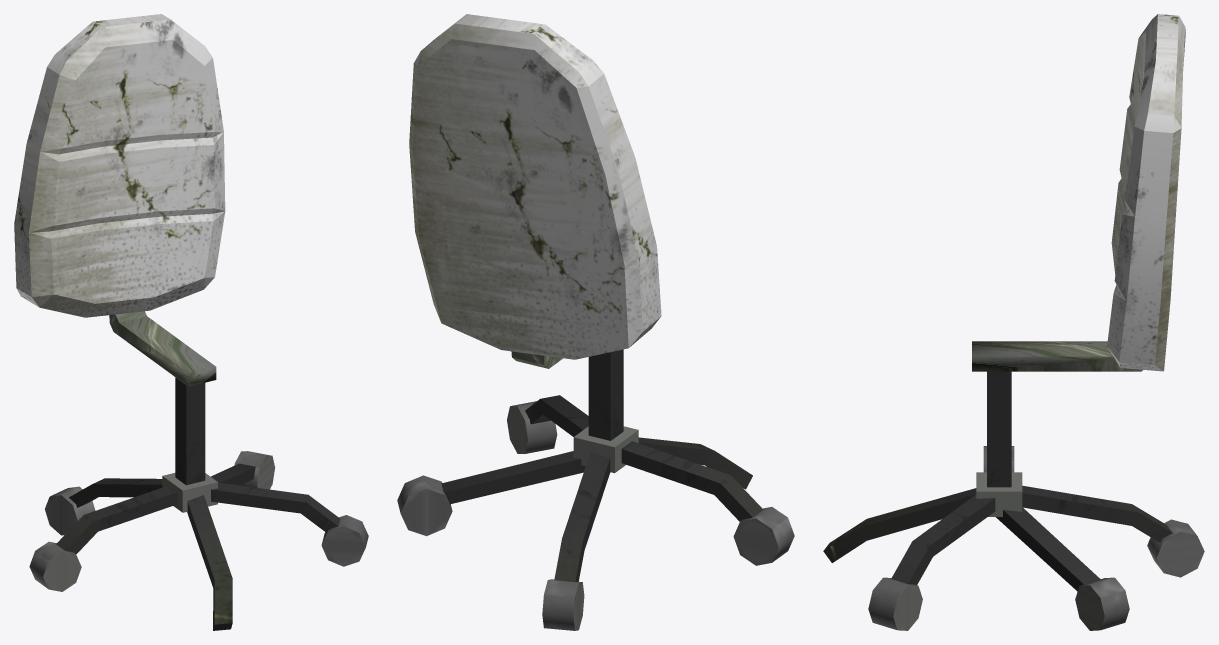
Rendered from pc_chair7.fbx.
3 views of the same model, side by side, from view 1: azimuth 30°, elevation 25°; view 2: azimuth 150°, elevation 25°; view 3: azimuth 270°, elevation 25° (orthographic). The views are drawn at different scales.
Visible parts, largest first — view 1: pc_chair7; view 2: pc_chair7; view 3: pc_chair7.
Boxes of the visible parts, x1,y1,x2,y2 form: pc_chair7: [14, 14, 368, 630]; pc_chair7: [397, 14, 794, 630]; pc_chair7: [823, 14, 1204, 630].
Size of the model in its own units: 0.6156 by 1.04 by 0.6295.
